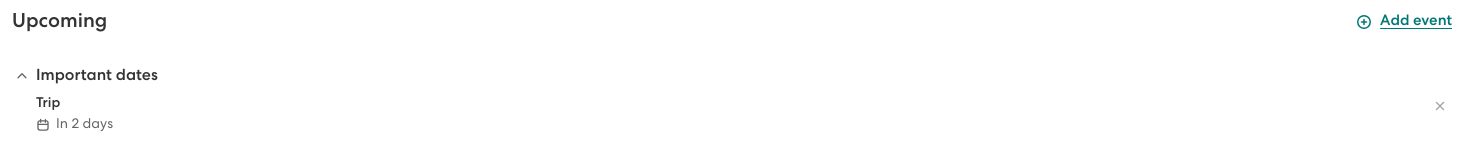
Test case: Upcoming — what it shows › folds a category behind its caret
What coordinates should you click on to do the following:
click the button "Important dates"
I would click on:
 (85, 76)
Its box is [12,64,158,88].
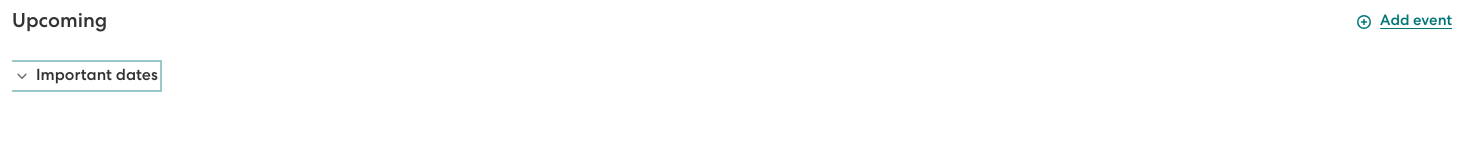
Expected: the button "Important dates" is collapsed, [12,64,158,88]
Expected: the button "Trip" is gone
